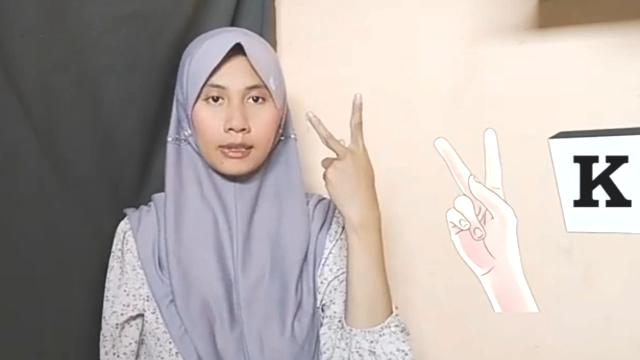K: (306, 92, 380, 222)
